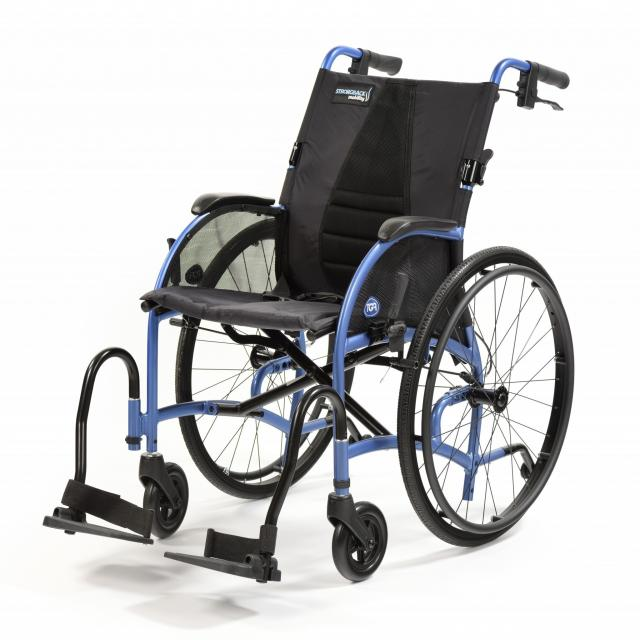wheelchair: (29, 31, 585, 600)
